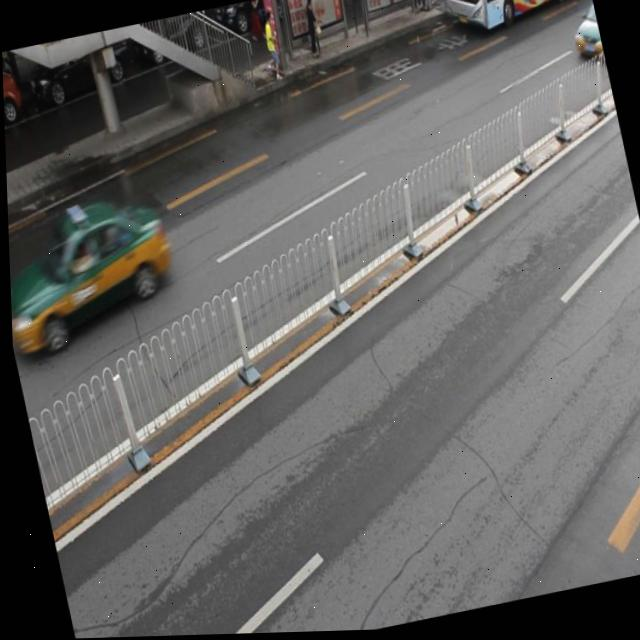car: (6, 192, 181, 353), (23, 27, 135, 108), (134, 11, 215, 70), (213, 0, 296, 41), (563, 0, 605, 71), (2, 59, 28, 144)
van: (432, 0, 593, 38)
